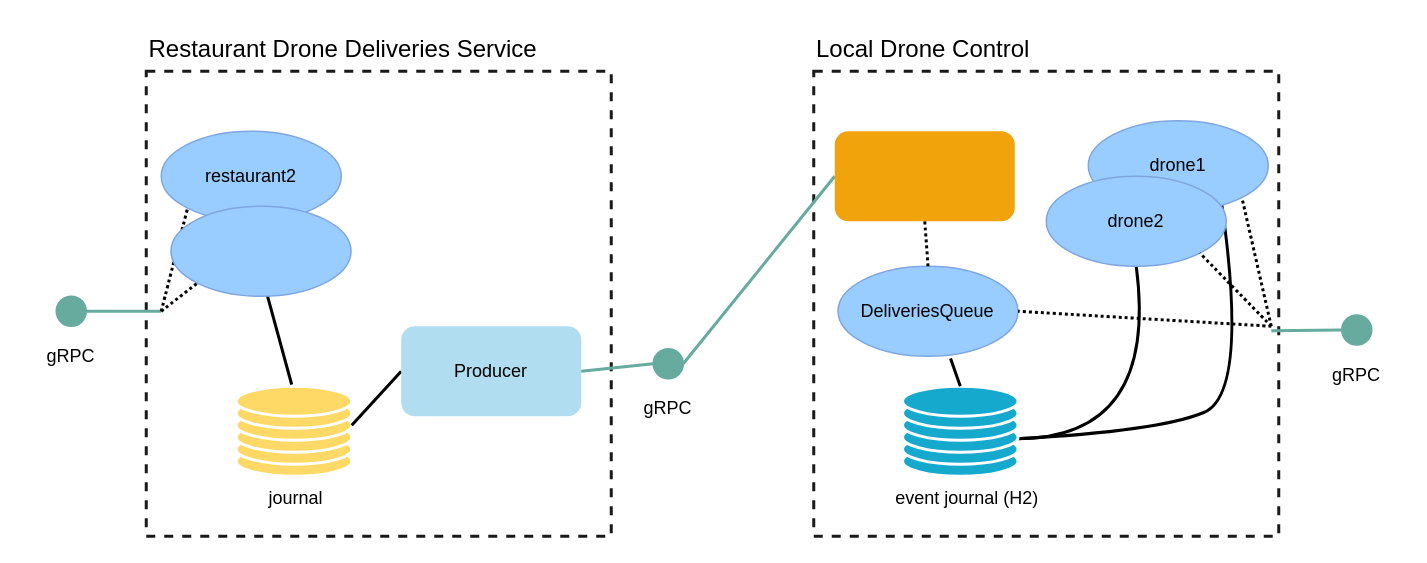
This 1427x563 diagram has some shape labels left out. Here are the shapes that lost their labels. From the top down, the centre of each, then its label:
At point 924,175: "Consumer".
At point 260,250: "restaurant1".
